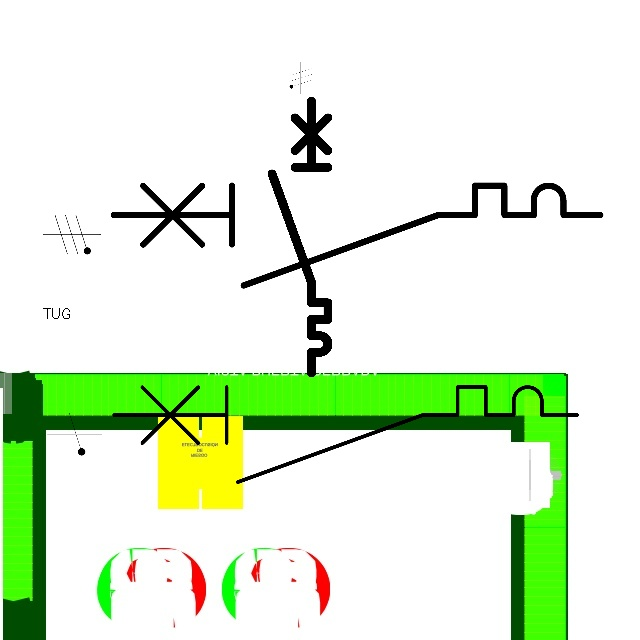interruptor_termomagnetico: (100, 173, 612, 298), (102, 375, 589, 494), (265, 94, 335, 379)
